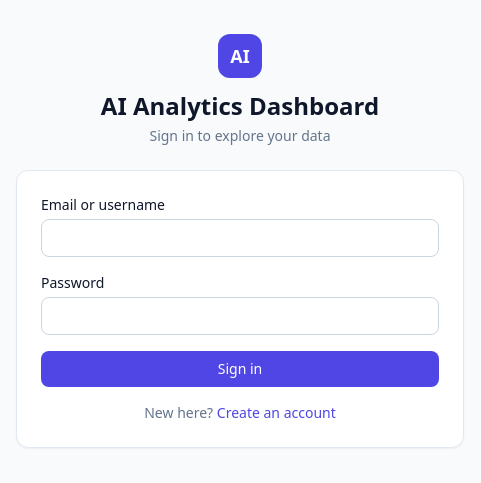
it: Login page › shows the server's error message on failed login
In the field labelled "Email or username": [240, 238] box [41, 219, 439, 257], type "admin"
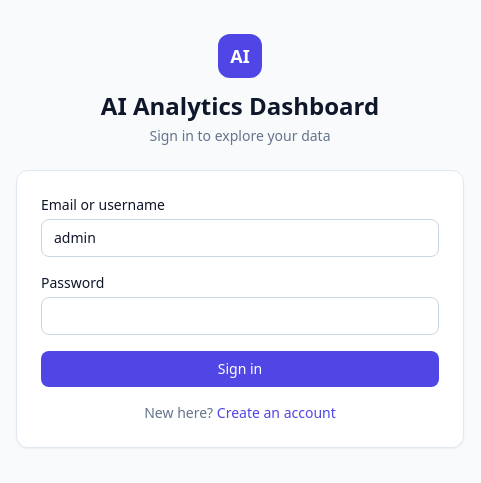
In the password field labelled "Password": [240, 316] box [41, 297, 439, 335], type "bad"
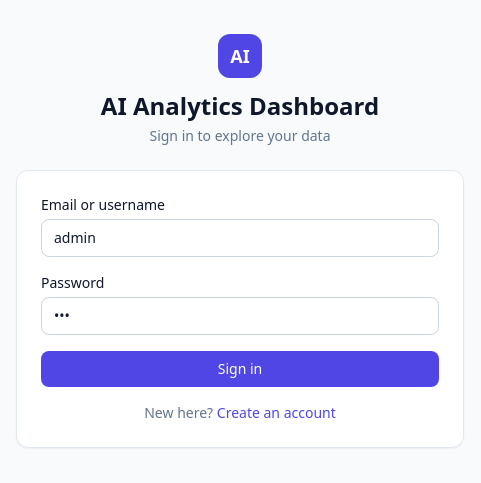
Click the button "Sign in": [240, 369] box [41, 351, 439, 387]
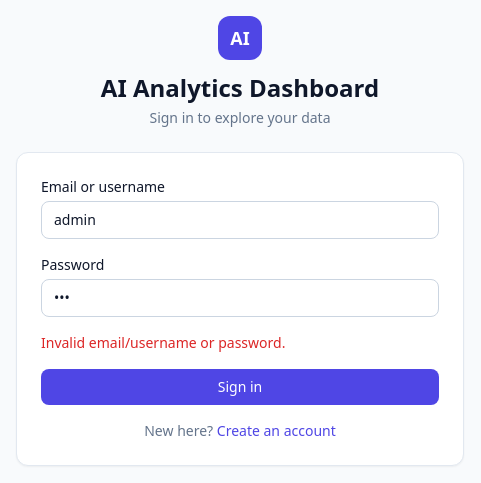
Expected: the text "Invalid email/username or password." is shown, [41, 333, 285, 352]
